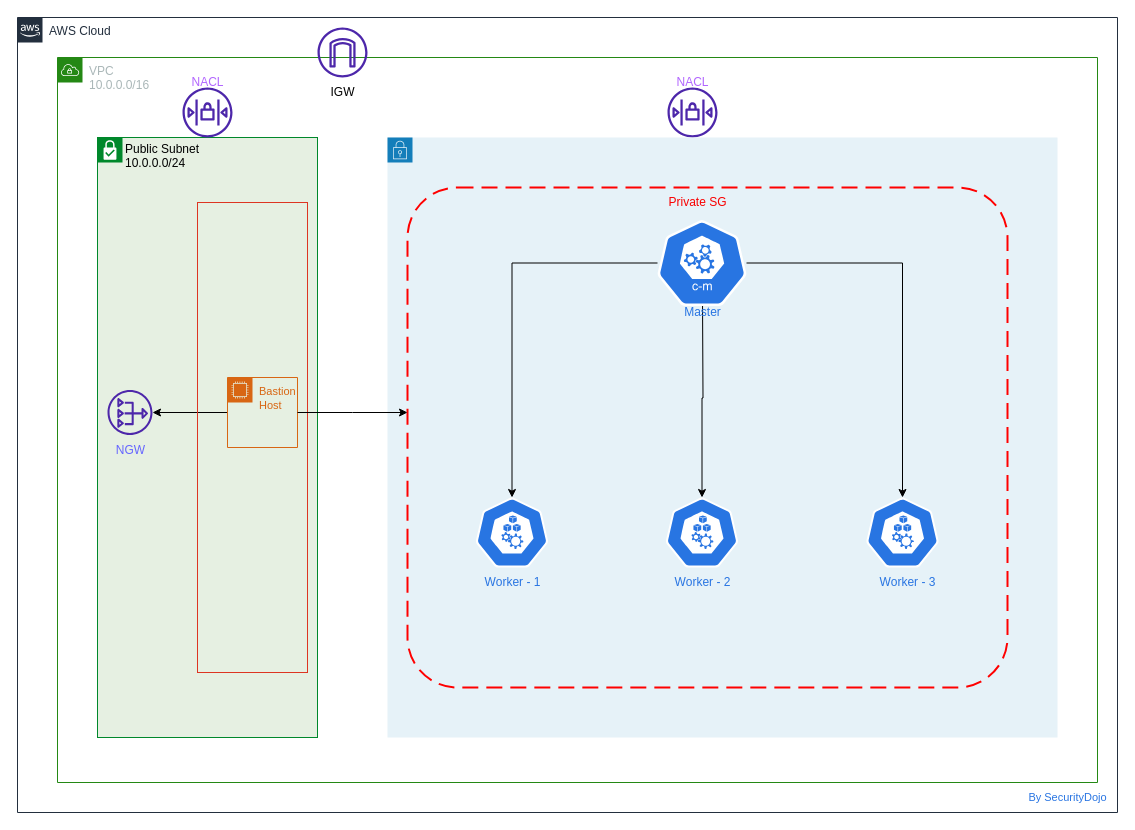
Some shapes in this 1135 by 830 pixel diagram are drawn without their labels. Here are the shapes that lost their labels. From the top down, the box of each, then its label:
(196, 202, 308, 672): Public SG
(386, 136, 1058, 738): Private subnet 10.0.1.0/24
